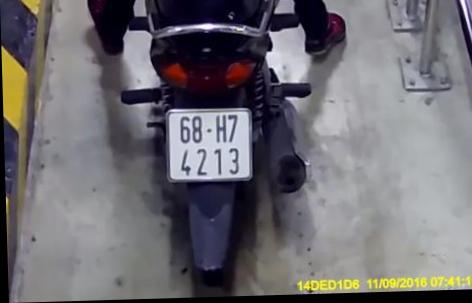License_Plate: (157, 102, 261, 186)
